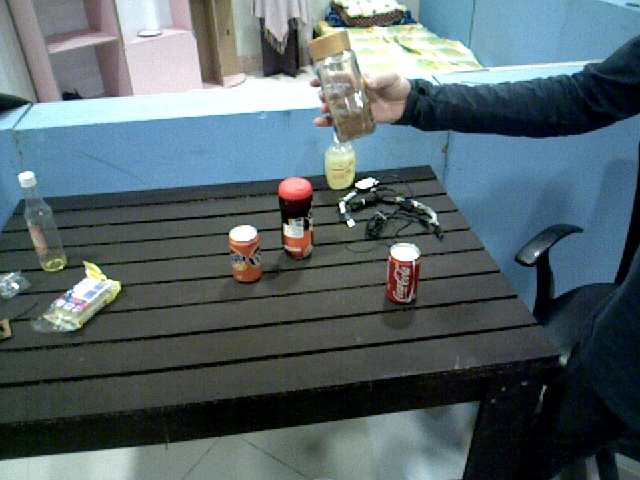coca: (386, 243, 421, 309)
coffee: (309, 29, 374, 144)
cream: (276, 177, 315, 262)
fanta: (228, 223, 261, 285)
